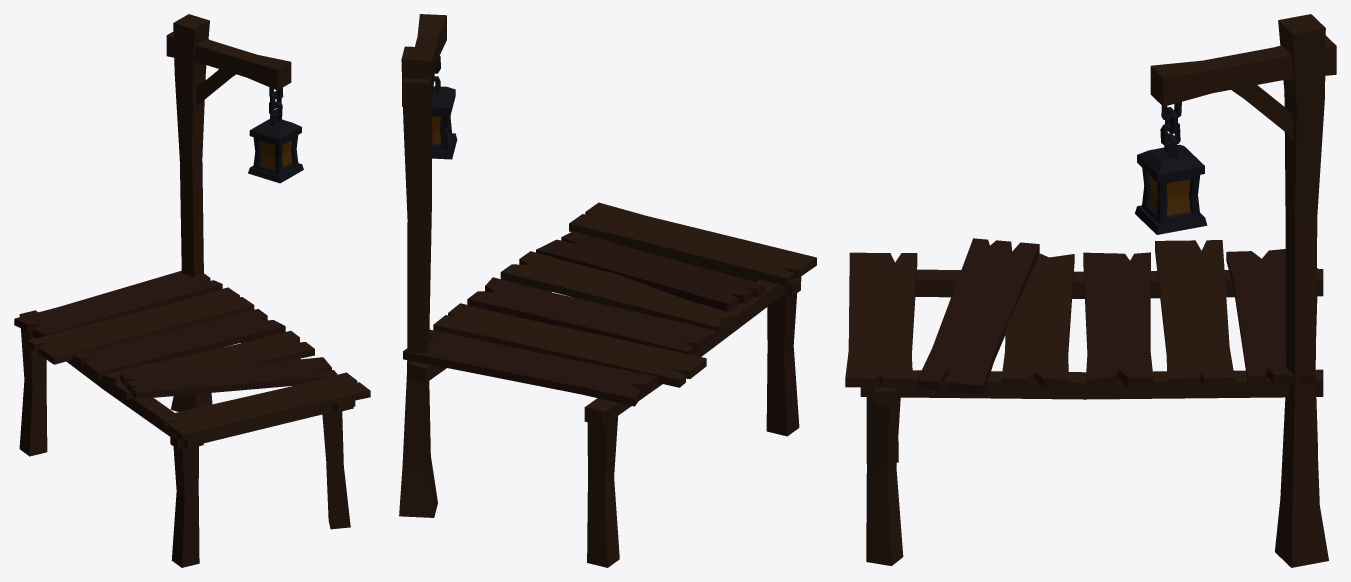
Rendered from small_trap.obj.
The picture shows the model from 3 angles, left to right: view 1: azimuth 30°, elevation 25°; view 2: azimuth 150°, elevation 25°; view 3: azimuth 270°, elevation 25°; orthographic projection. The views are drawn at different scales.
Parts seen in each view (by area): view 1: Cube.015_Cube.036; view 2: Cube.015_Cube.036; view 3: Cube.015_Cube.036.
Boxes of the visible parts, x1,y1,x2,y2 form: Cube.015_Cube.036: (14,14,370,567); Cube.015_Cube.036: (399,14,816,567); Cube.015_Cube.036: (845,14,1336,567).
Bounding box in the file's own units: 2.82 × 4.18 × 3.46.
